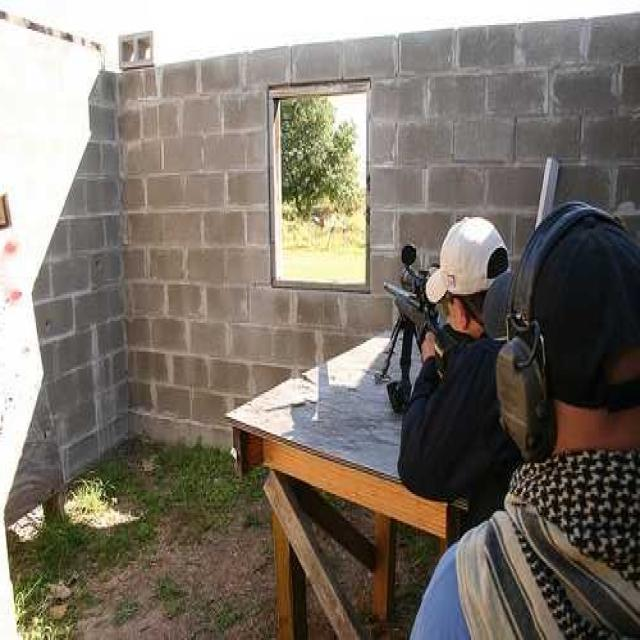heavyweapon: (372, 234, 484, 442)
